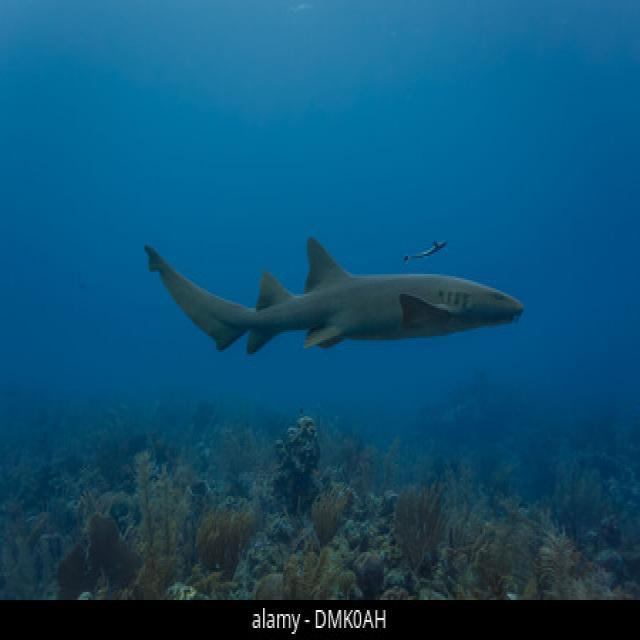Shark: (128, 180, 538, 386)
